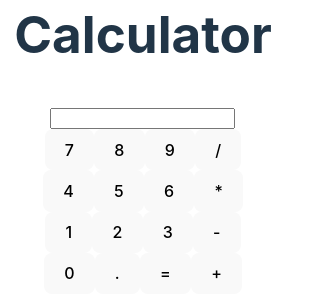
Calculator › should show user input after clicking a number
Click the text "1" at (69, 232), box [45,212,92,253]
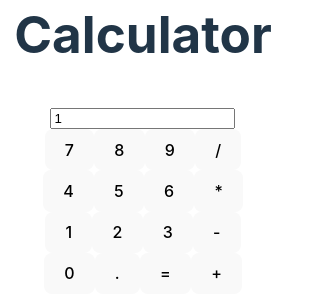
Check: the field holds "1", box [50,108,236,129]
